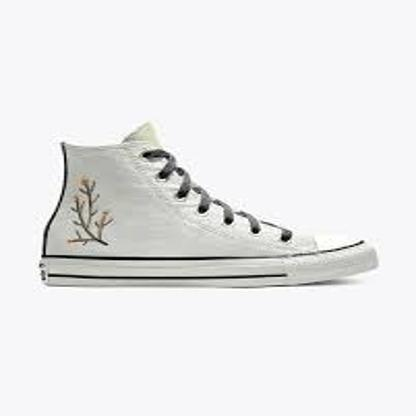not trash: (38, 119, 379, 288)
